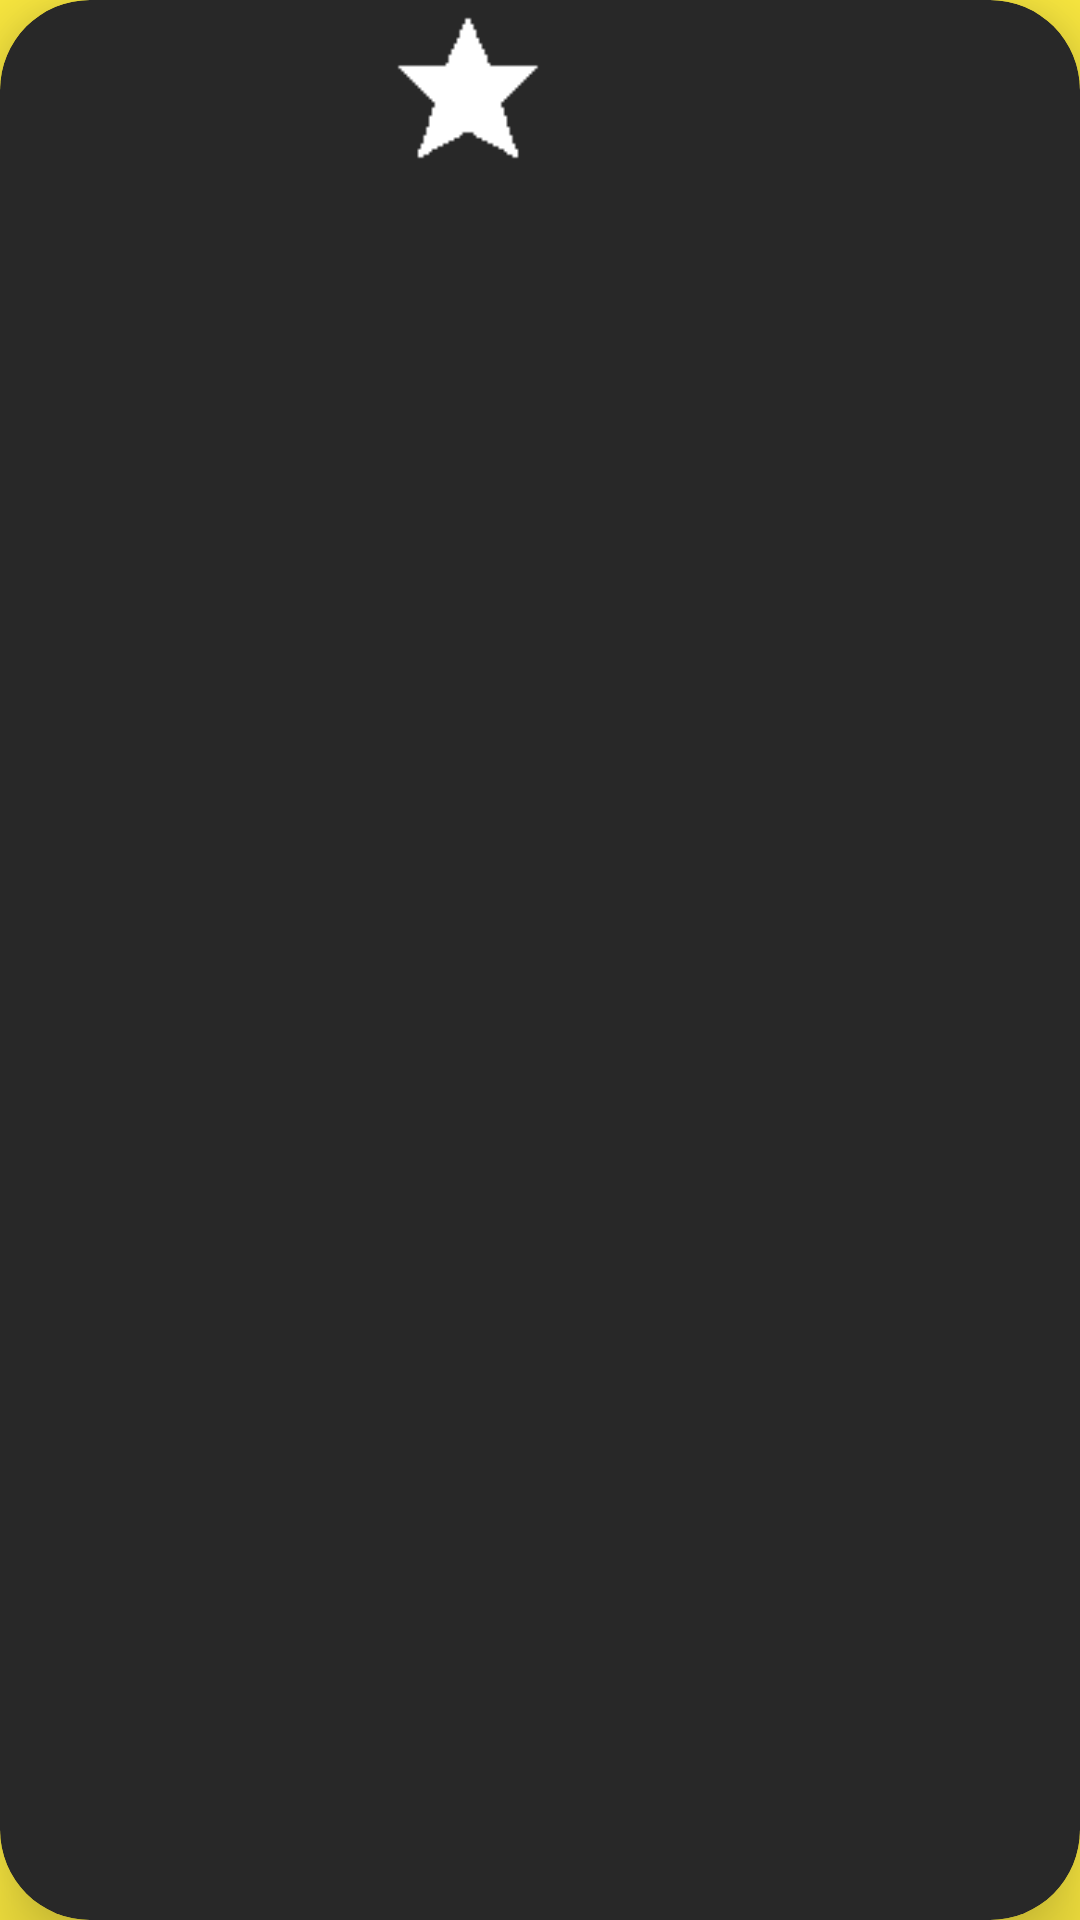

Icons on this 1080 x 1920 Android screen, each with its box as bbox=(x1, y1, x2, y2):
score: bbox=(398, 17, 538, 159)
